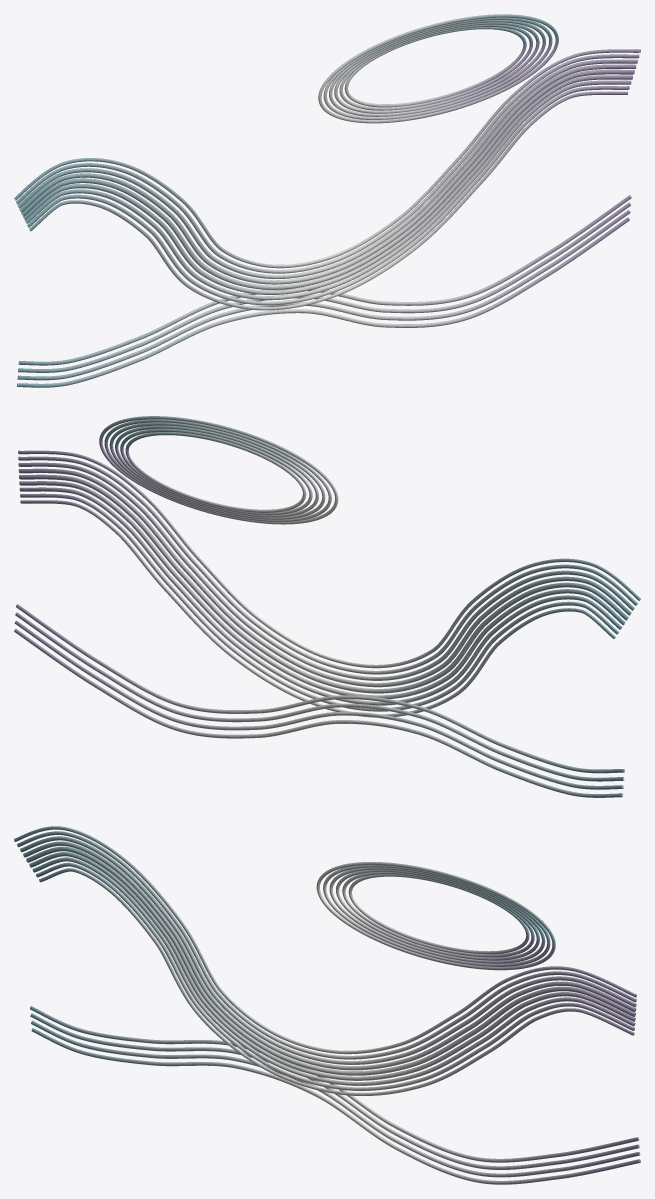
Rendered from gradient_wave_pattern.glb.
The picture shows the model from 3 angles, top to bottom: view 1: azimuth 30°, elevation 25°; view 2: azimuth 150°, elevation 25°; view 3: azimuth 330°, elevation 25°; orthographic projection.
Visible parts, largest first — view 1: Wave_04, Wave_05, Wave_03, Wave_06, Wave_02, Wave_07, Wave_01, Wave_08, Wave_15, Wave_00, Wave_16, Wave_17 (+7 smaller); view 2: Wave_04, Wave_05, Wave_03, Wave_06, Wave_02, Wave_07, Wave_08, Wave_16, Wave_17, Wave_15, Wave_18, Wave_01 (+7 smaller); view 3: Wave_04, Wave_05, Wave_03, Wave_06, Wave_02, Wave_07, Wave_01, Wave_08, Wave_15, Wave_00, Wave_16, Wave_17 (+7 smaller).
Part boxes in pixels (x1,y1,x2,y2): Wave_04: (21,69,634,289); Wave_05: (19,64,636,284); Wave_03: (23,75,632,294); Wave_06: (17,59,637,278); Wave_02: (25,80,631,300); Wave_07: (16,54,639,273); Wave_01: (27,86,629,305); Wave_08: (14,49,640,268); Wave_15: (17,217,629,387); Wave_00: (29,91,627,310); Wave_16: (17,210,630,380); Wave_17: (18,202,630,372); Wave_04: (19,474,628,693); Wave_05: (18,468,631,687); Wave_03: (19,481,625,699); Wave_06: (18,462,634,680); Wave_02: (19,487,622,705); Wave_07: (18,456,637,674); Wave_08: (18,450,640,668); Wave_16: (14,620,623,789); Wave_17: (15,612,624,781); Wave_15: (14,628,622,797); Wave_18: (16,604,624,773); Wave_01: (20,493,618,711); Wave_04: (26,846,635,1075); Wave_05: (23,841,636,1070); Wave_03: (29,852,635,1080); Wave_06: (20,836,636,1064); Wave_02: (32,857,635,1085); Wave_07: (17,831,636,1059); Wave_01: (36,862,634,1090); Wave_08: (14,826,636,1054); Wave_15: (31,1028,640,1184); Wave_00: (39,868,634,1095); Wave_16: (31,1020,640,1177); Wave_17: (30,1013,639,1169).
Bounding box in the file's own units: 30.73 × 14.6 × 0.7534.
